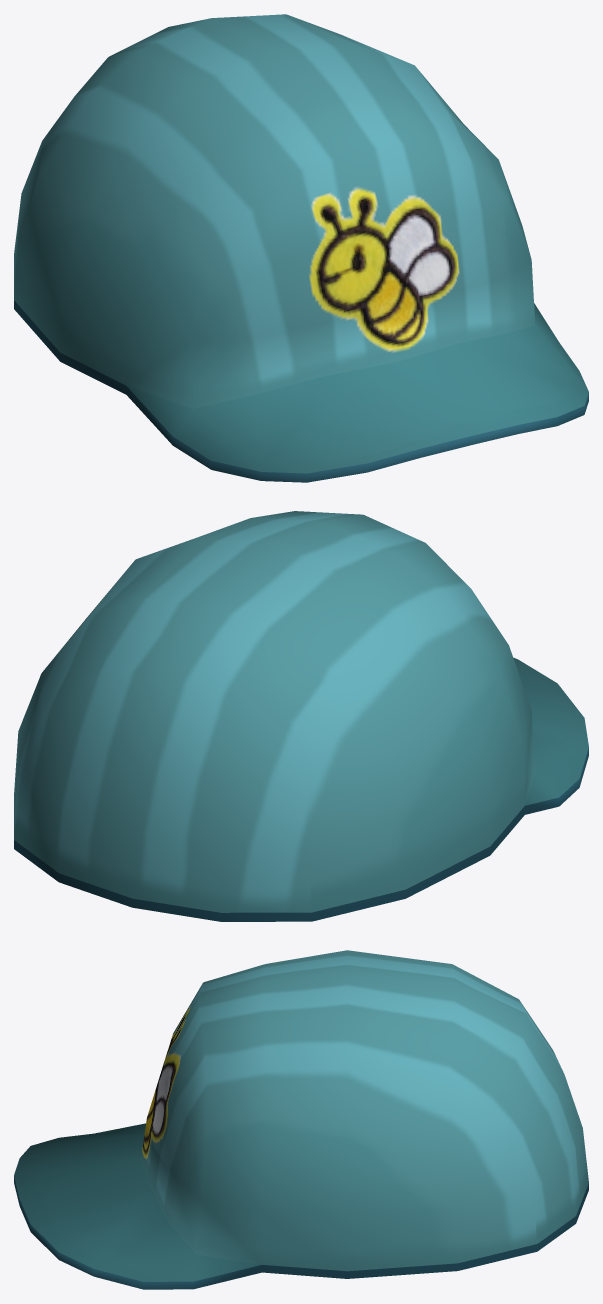
File: girl_cap5.FBX
3 views of the same model, one above another, from view 1: azimuth 30°, elevation 25°; view 2: azimuth 150°, elevation 25°; view 3: azimuth 270°, elevation 25° (orthographic). The views are drawn at different scales.
Visible parts, largest first — view 1: girl_cap00; view 2: girl_cap00; view 3: girl_cap00.
Boxes of the visible parts, <box> form: girl_cap00: <box>14,14,588,482</box>; girl_cap00: <box>14,511,588,921</box>; girl_cap00: <box>14,950,588,1289</box>.
Size of the model in its own units: 48.29 by 31.3 by 66.1.
